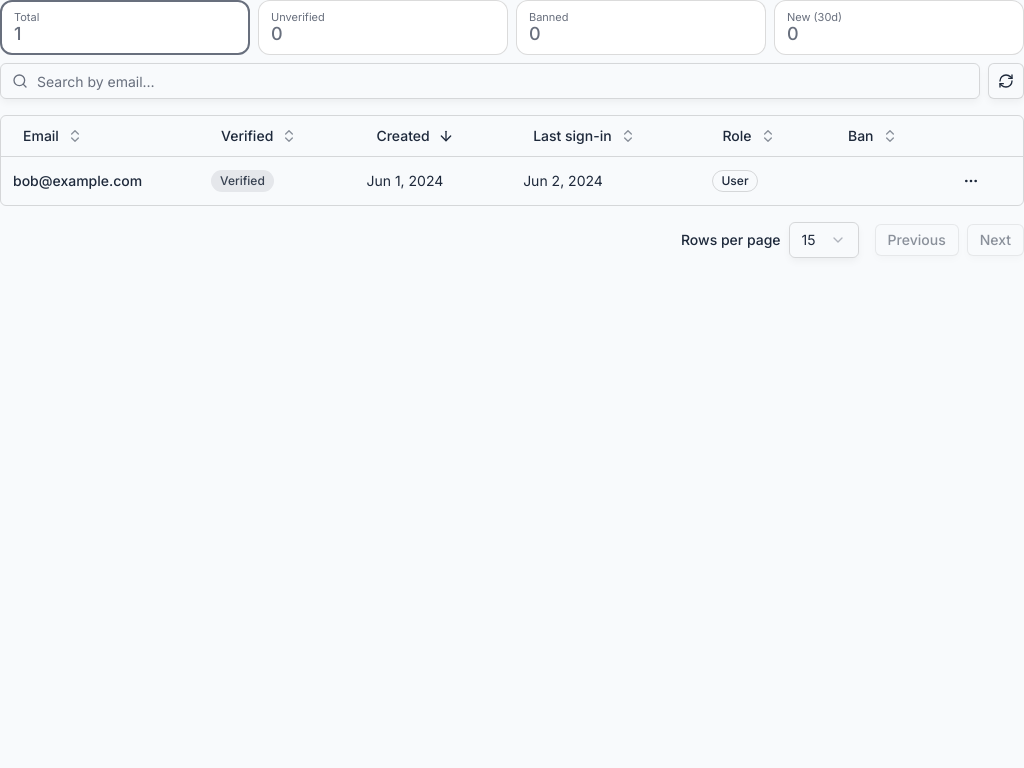
Test: UsersTable › should show mutation faults in a reportable panel without replacing table rows
Expected: the text "bob@example.com" is shown, x1=13 y1=172 x2=142 y2=188
Click the button named "actions for bob@example.com".
click(971, 180)  # box x1=955 y1=164 x2=987 y2=196
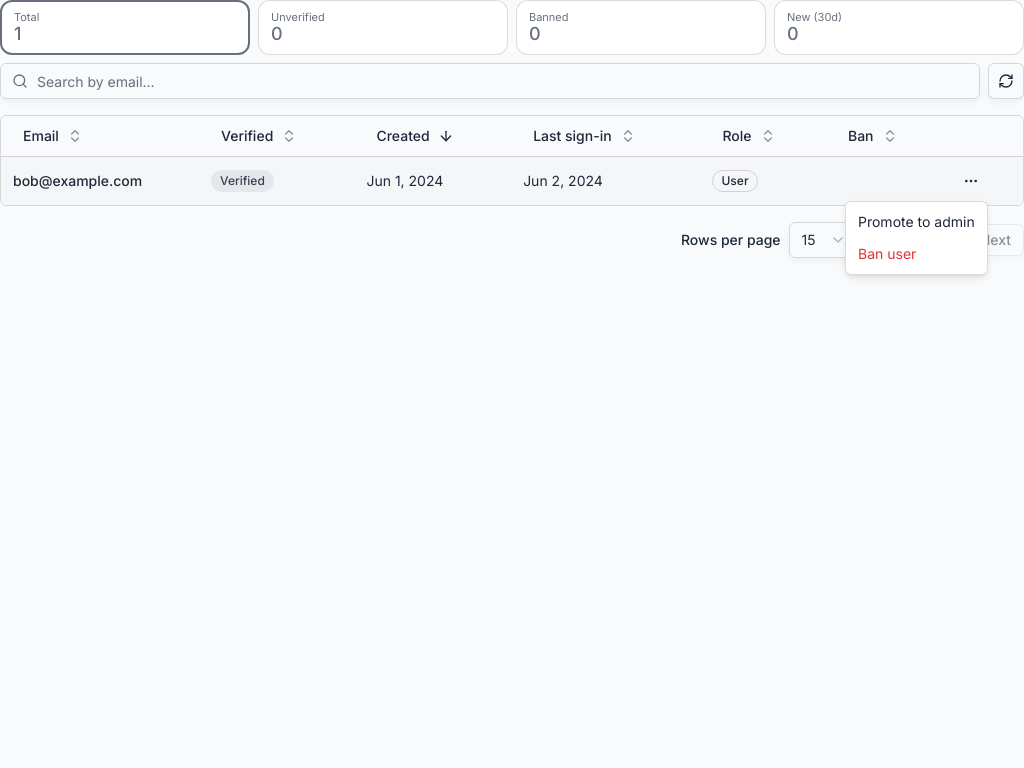
Click the menu item "Promote to admin".
click(916, 222)  # box x1=858 y1=213 x2=975 y2=230
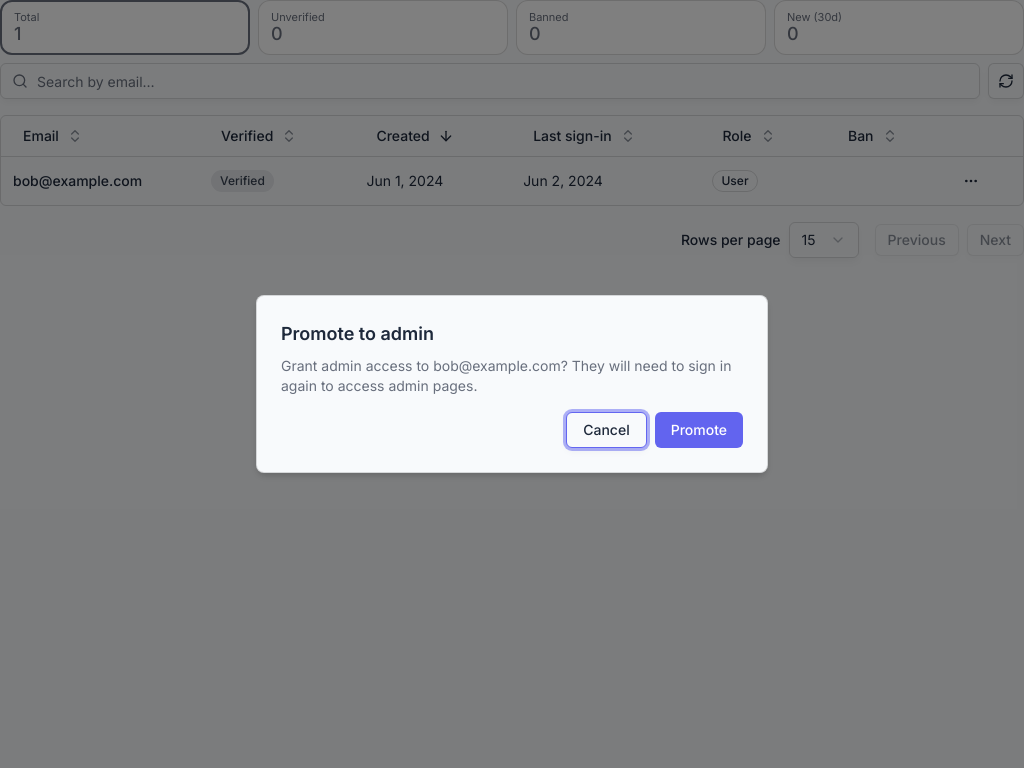
Click the button "Promote".
click(699, 430)  # box x1=655 y1=412 x2=743 y2=448
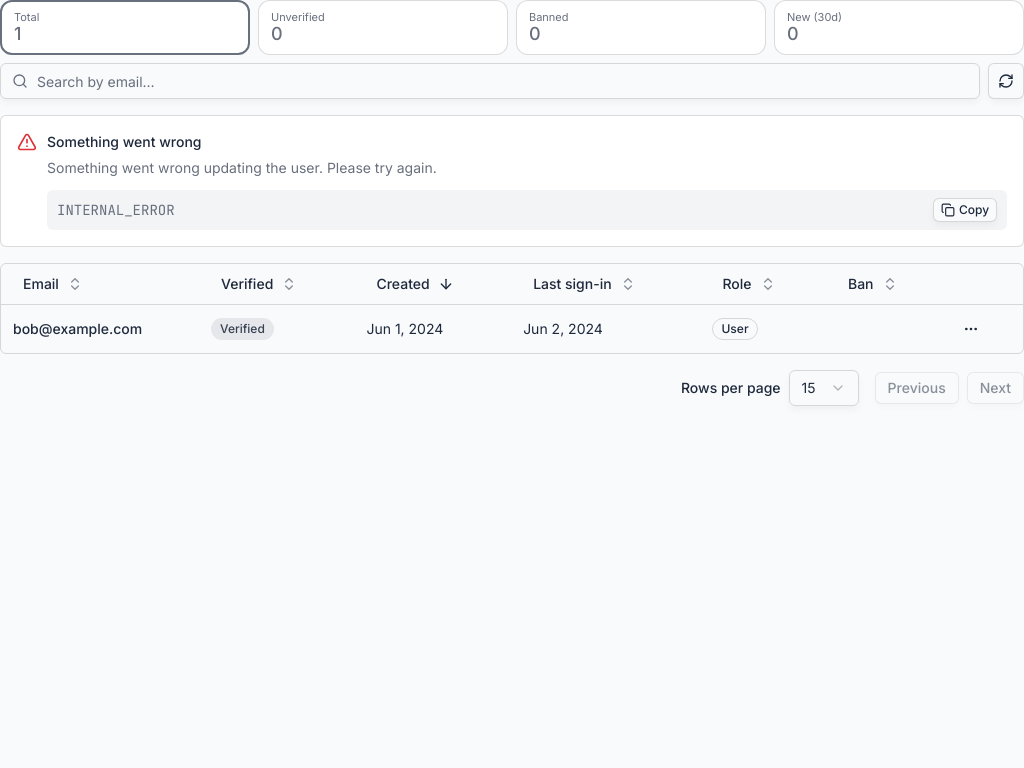
Expected: the text "bob@example.com" is shown, x1=13 y1=320 x2=142 y2=336
Now the text "Something went wrong updating the user. Please try again." is shown, box x1=47 y1=159 x2=437 y2=176
Now the button "Copy" is shown, box x1=933 y1=198 x2=997 y2=222
